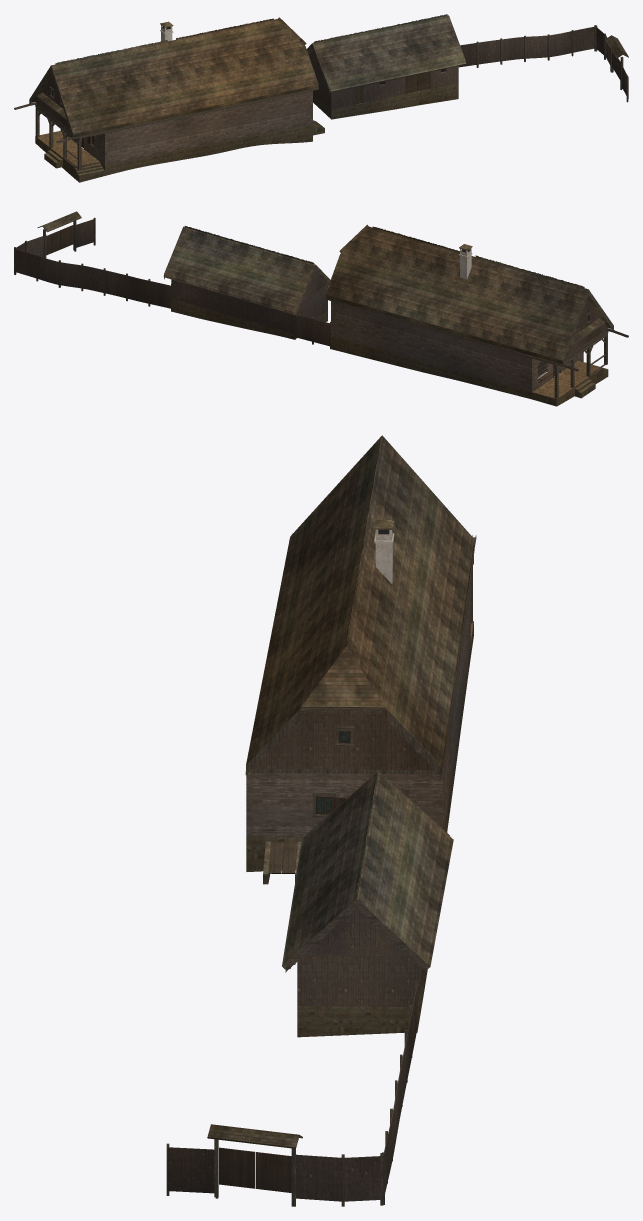
File: dom17_lekki.glb
The picture shows the model from 3 angles, top to bottom: view 1: azimuth 30°, elevation 25°; view 2: azimuth 150°, elevation 25°; view 3: azimuth 270°, elevation 25°; orthographic projection. The views are drawn at different scales.
Visible parts, largest first — view 1: Dom17_lekki; view 2: Dom17_lekki; view 3: Dom17_lekki.
Part boxes in pixels (box(x1,y1,x2,y2)): Dom17_lekki: box(14, 14, 628, 182); Dom17_lekki: box(14, 211, 628, 406); Dom17_lekki: box(166, 435, 476, 1206).
Bounding box in the file's own units: 55.31 × 13.12 × 13.22.
11 materials, 10 textured.
